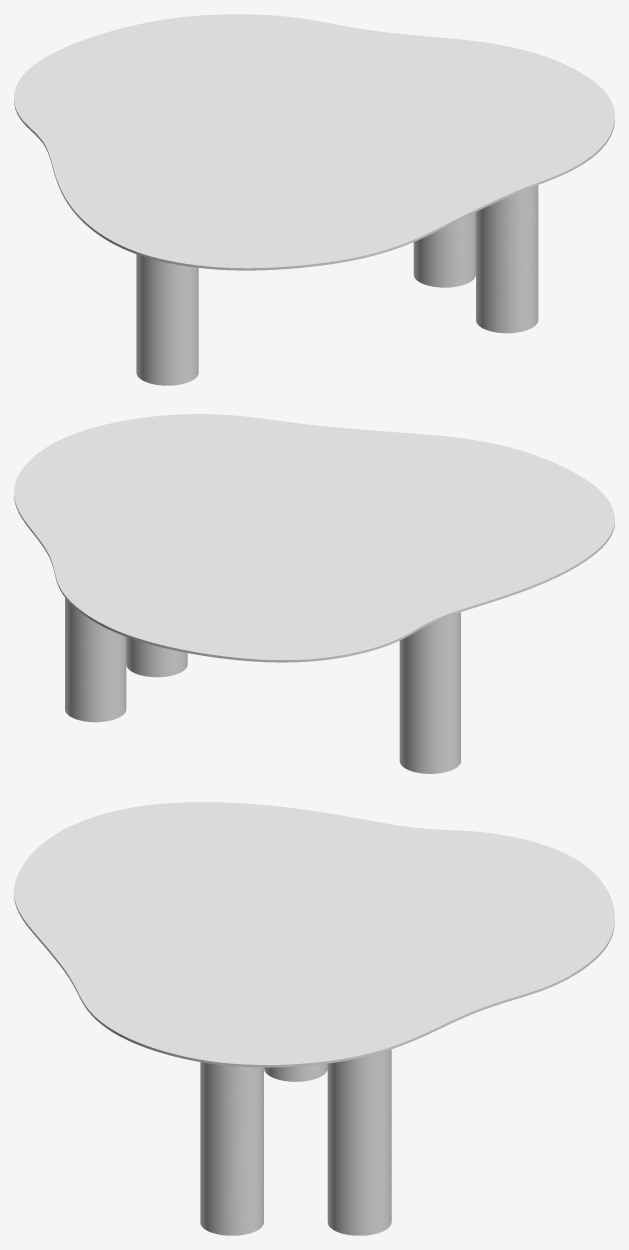
Rendered from purewhite_topone_facet_cylinder.glb.
3 renders of one model, top to bottom at view 1: azimuth 30°, elevation 25°; view 2: azimuth 150°, elevation 25°; view 3: azimuth 270°, elevation 25°, orthographic. The views are drawn at different scales.
Visible parts, largest first — view 1: facet_topone, cylinder; view 2: facet_topone, cylinder; view 3: facet_topone, cylinder.
Part boxes in pixels (x1,y1,x2,y2): facet_topone: [14, 14, 614, 270]; cylinder: [136, 185, 538, 385]; facet_topone: [14, 414, 614, 662]; cylinder: [65, 598, 460, 773]; facet_topone: [14, 802, 614, 1067]; cylinder: [200, 1049, 391, 1235].
Size of the model in its own units: 6.83 by 2.52 by 6.6.
Materials: 1 (1 with a texture image).
